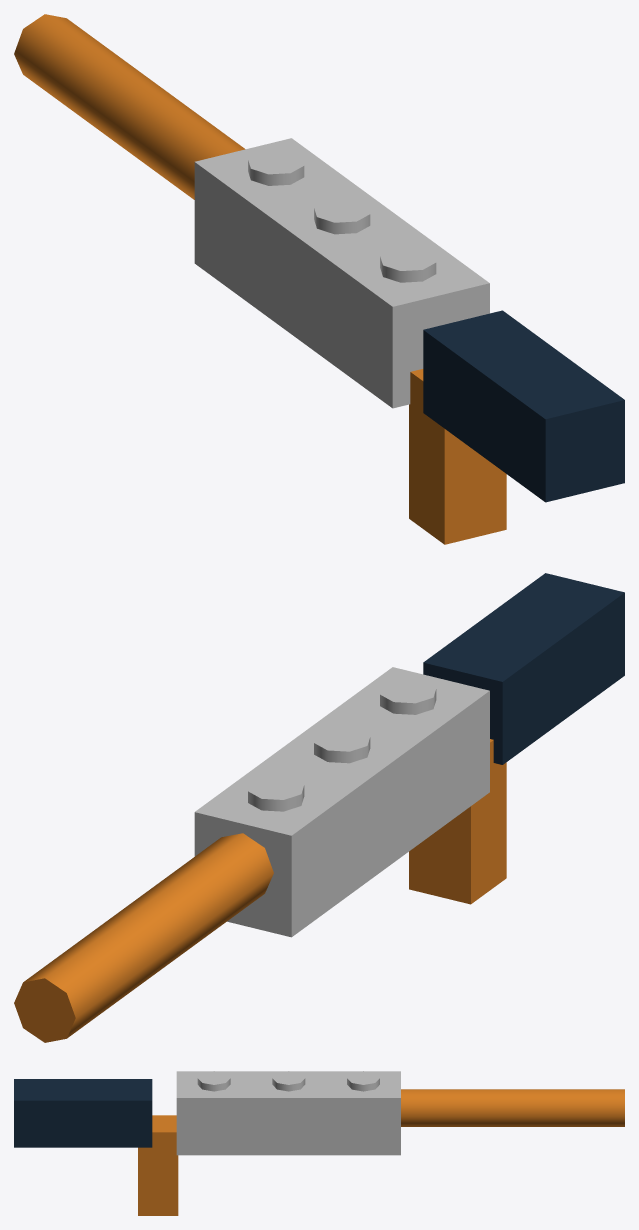
File: LegoShotgun.glb
3 views of the same model, one above another, from view 1: azimuth 30°, elevation 25°; view 2: azimuth 150°, elevation 25°; view 3: azimuth 270°, elevation 25° (orthographic). The views are drawn at different scales.
Parts seen in each view (by area): view 1: LegoShotgun; view 2: LegoShotgun; view 3: LegoShotgun.
Boxes of the visible parts, x1,y1,x2,y2 form: LegoShotgun: [14, 14, 624, 544]; LegoShotgun: [14, 573, 624, 1042]; LegoShotgun: [14, 1071, 624, 1215].
Bounding box in the file's own units: 0.11 × 0.2476 × 1.06.
